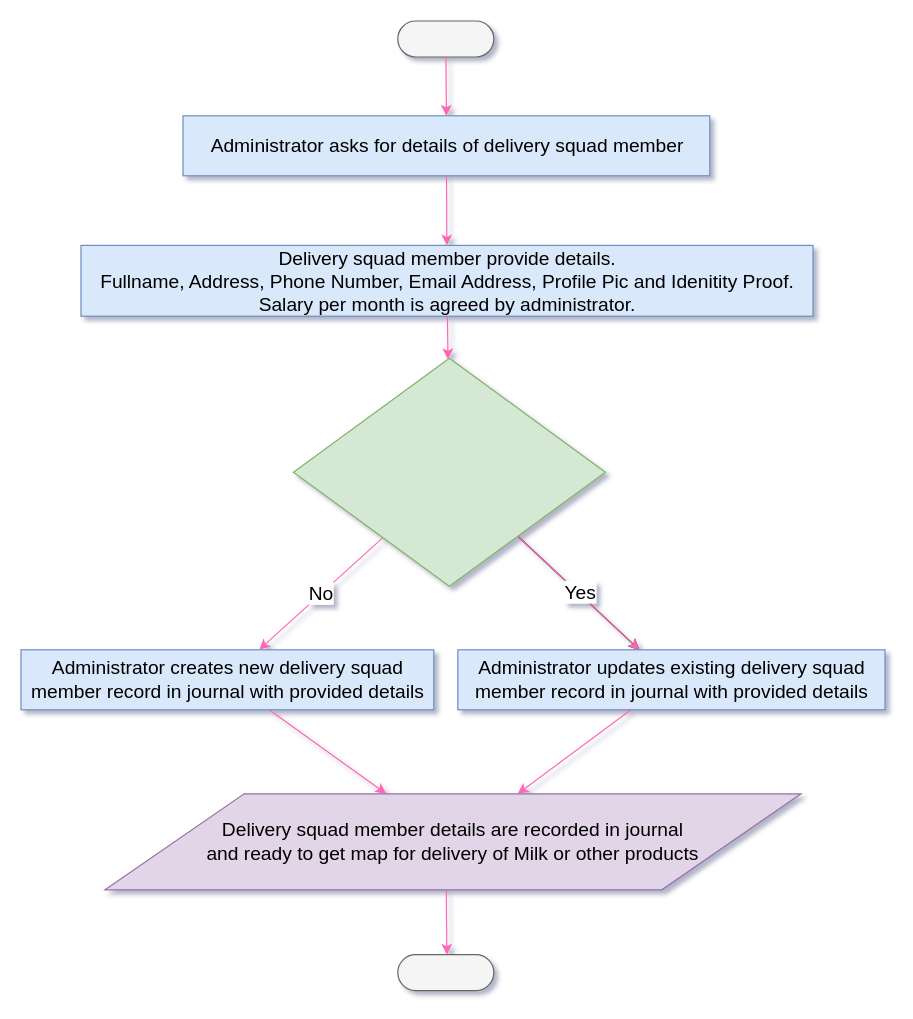
Image size: 913x1019. Some labels were removed from this diagram. Each missing label, with the centre of its shape:
"Administrator checks if delivery squad member details already exists in records" belongs at (x=448, y=471).
"Finish" belongs at (x=445, y=972).
"Start" belongs at (x=445, y=38).
